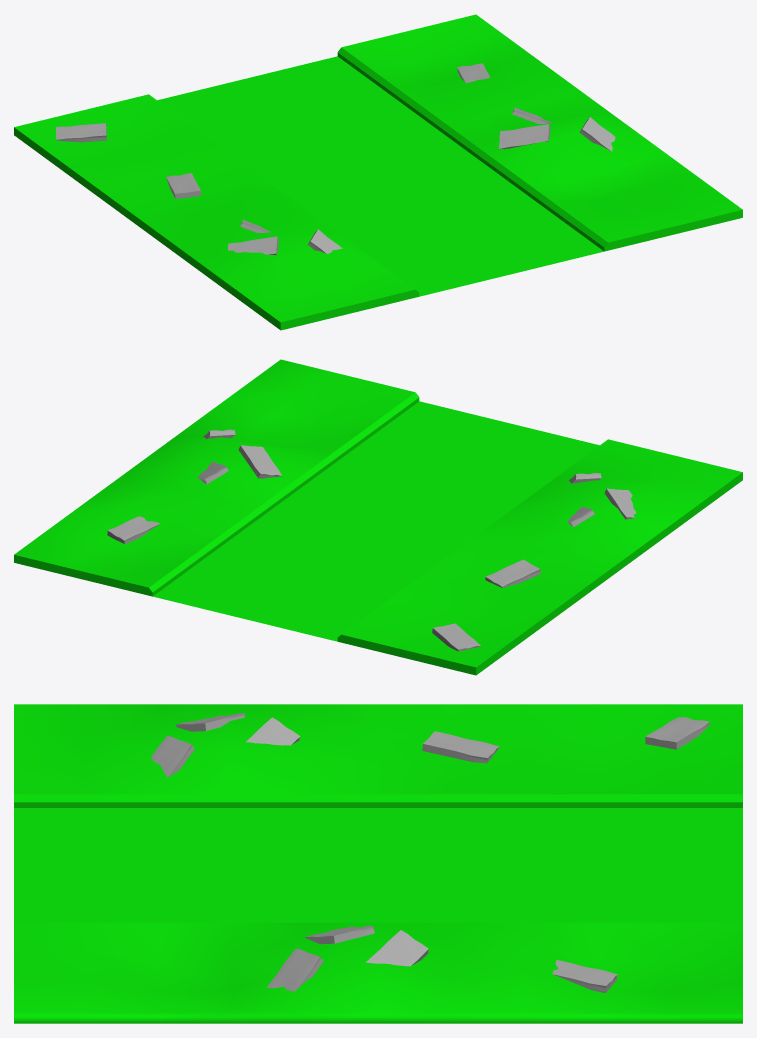
The model's file is I-tile.fbx.
3 views of the same model, one above another, from view 1: azimuth 30°, elevation 25°; view 2: azimuth 150°, elevation 25°; view 3: azimuth 270°, elevation 25° (orthographic). The views are drawn at different scales.
Parts seen in each view (by area): view 1: straight; view 2: straight; view 3: straight.
Part boxes in pixels (box(x1,y1,x2,y2)): straight: box(14, 14, 742, 330); straight: box(14, 359, 742, 675); straight: box(14, 704, 742, 1023).
Size of the model in its own units: 1300 by 86.86 by 1300.
